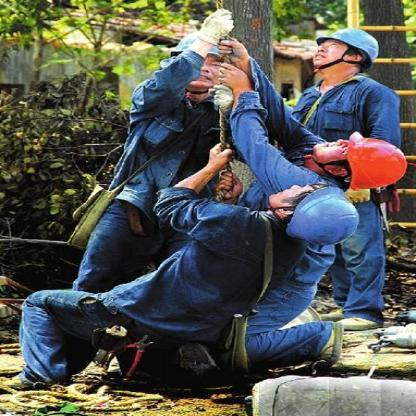helmet: (254, 183, 362, 244), (155, 26, 249, 92), (298, 136, 416, 188), (305, 26, 385, 76)
